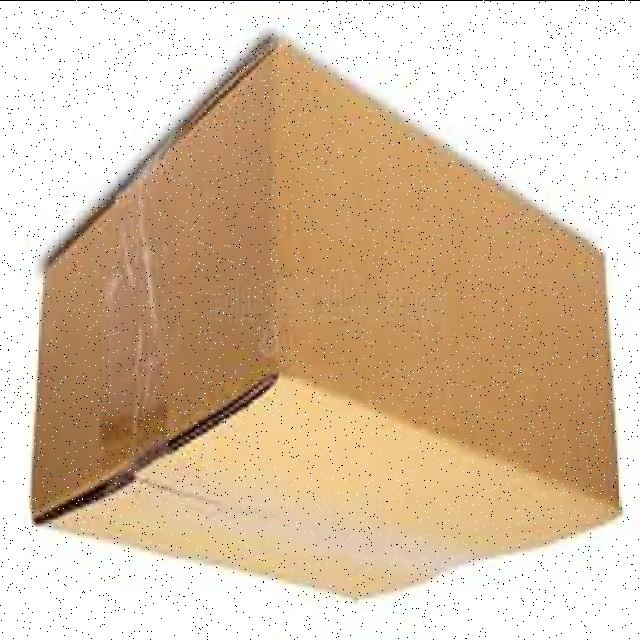normal: (28, 40, 624, 600)
